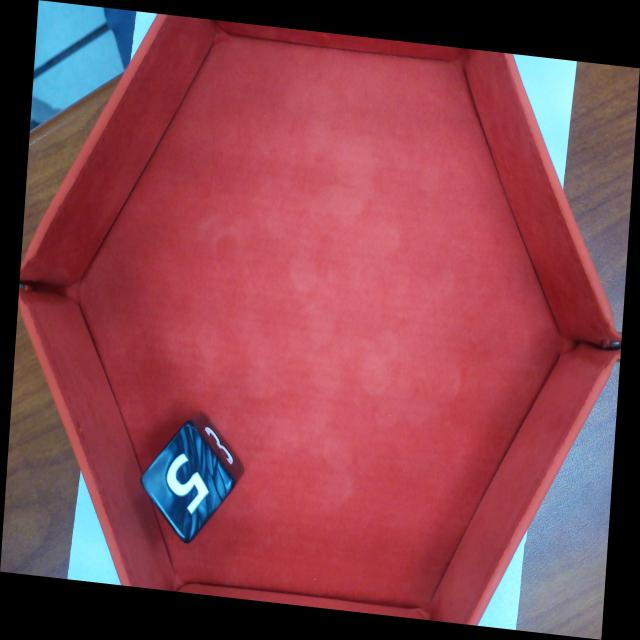dice: (137, 418, 238, 548)
